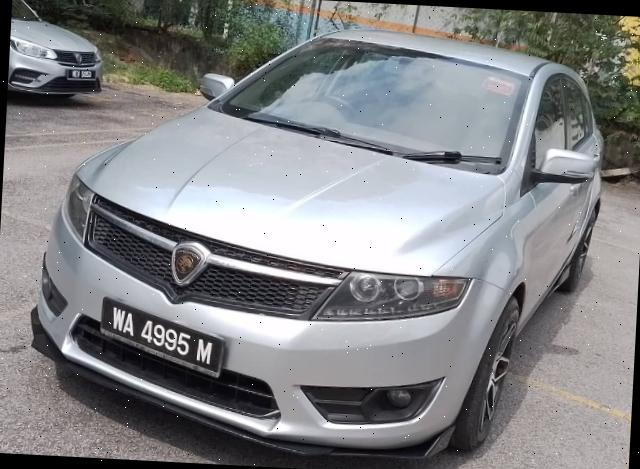License_Plate: (92, 286, 231, 394)
car: (26, 3, 640, 467)
